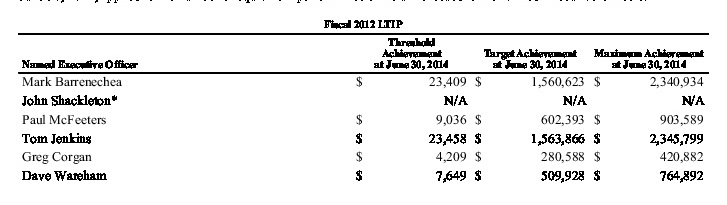table: (0, 0, 727, 205)
